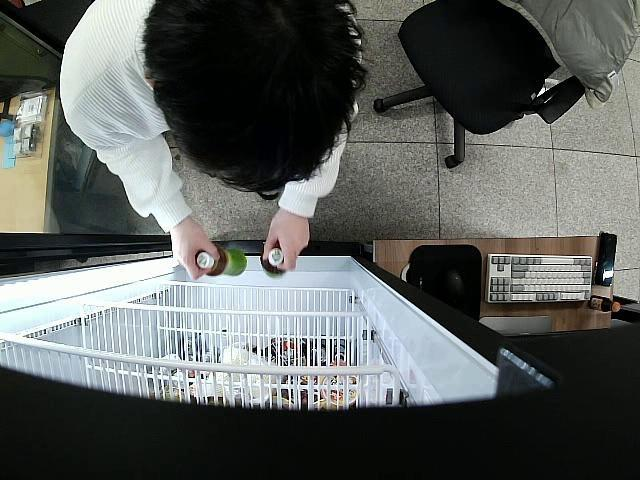19_17cha: (196, 245, 248, 279), (262, 248, 292, 276)
